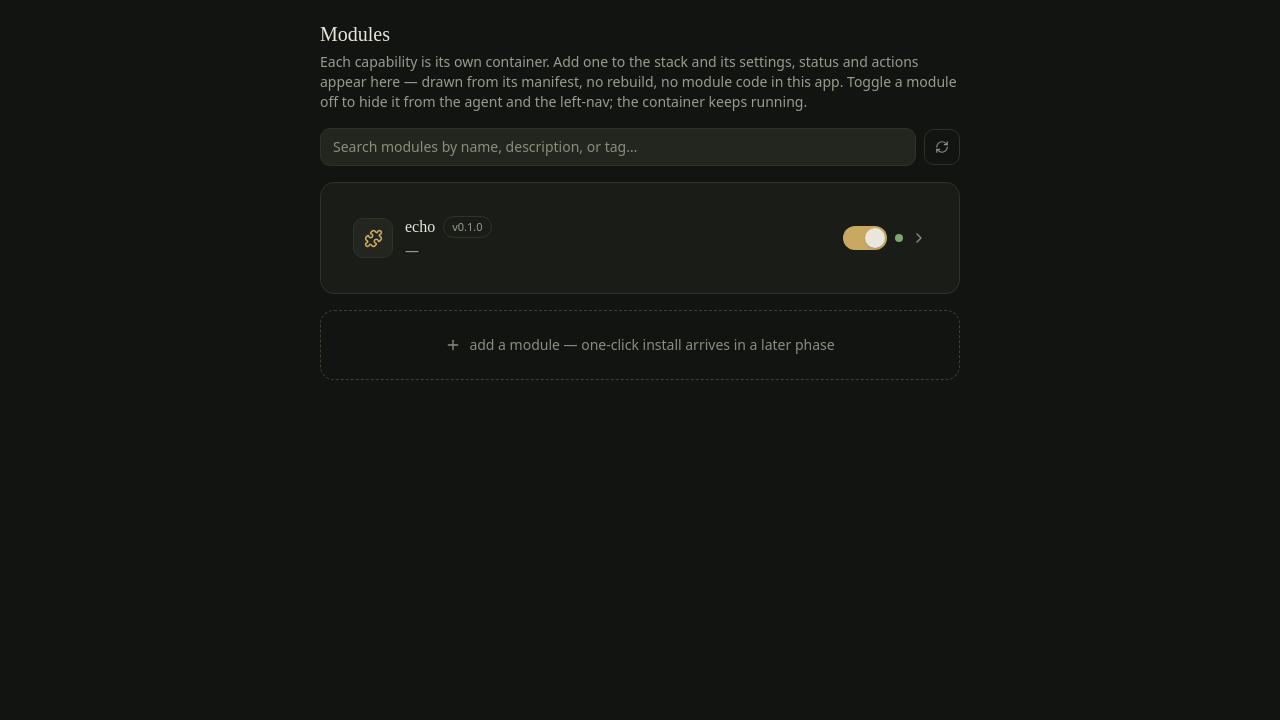
Test case: ModulesScreen removal › shows an informational deferred-teardown notice when the core has no Docker access (#382)
The width and height of the screenshot is (1280, 720).
Step 1. Click the button named "expand" → (919, 238), box [911,230,927,246]
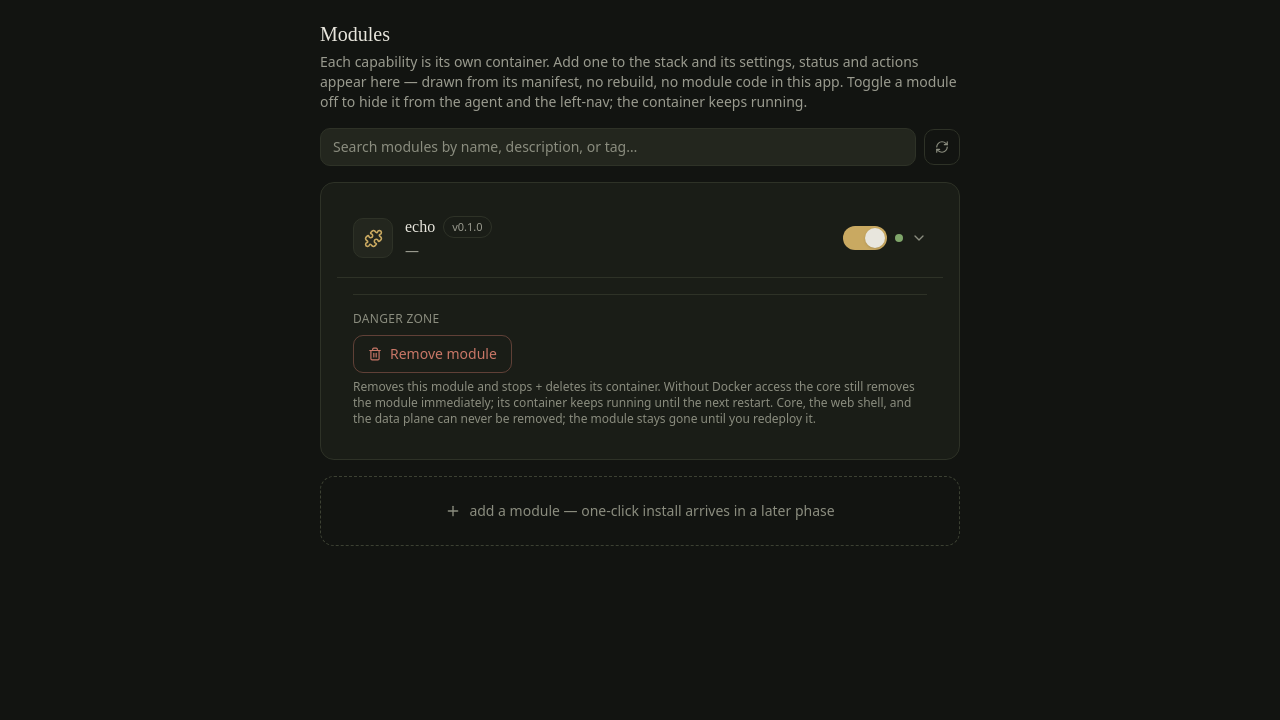
Step 2. Click the button "Remove module" → (432, 354), box [353,335,512,373]
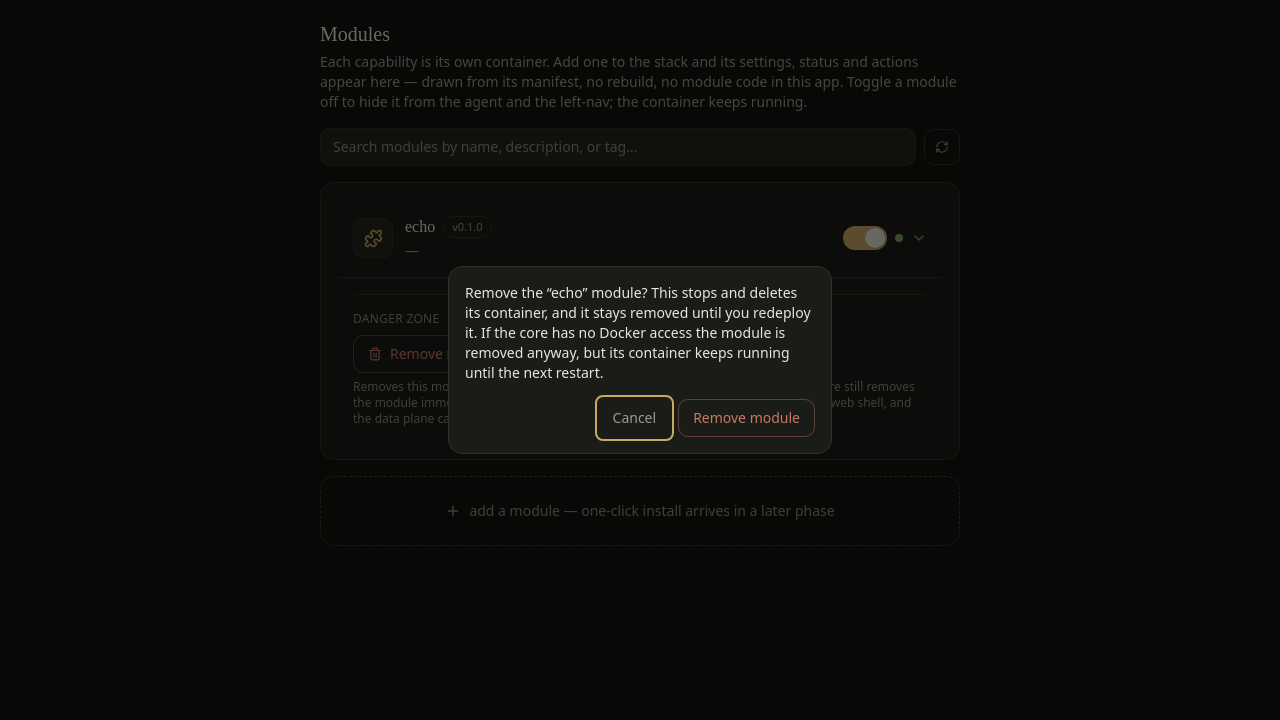
Step 3. Click the button "Remove module" → (747, 418), box [678,399,815,437]
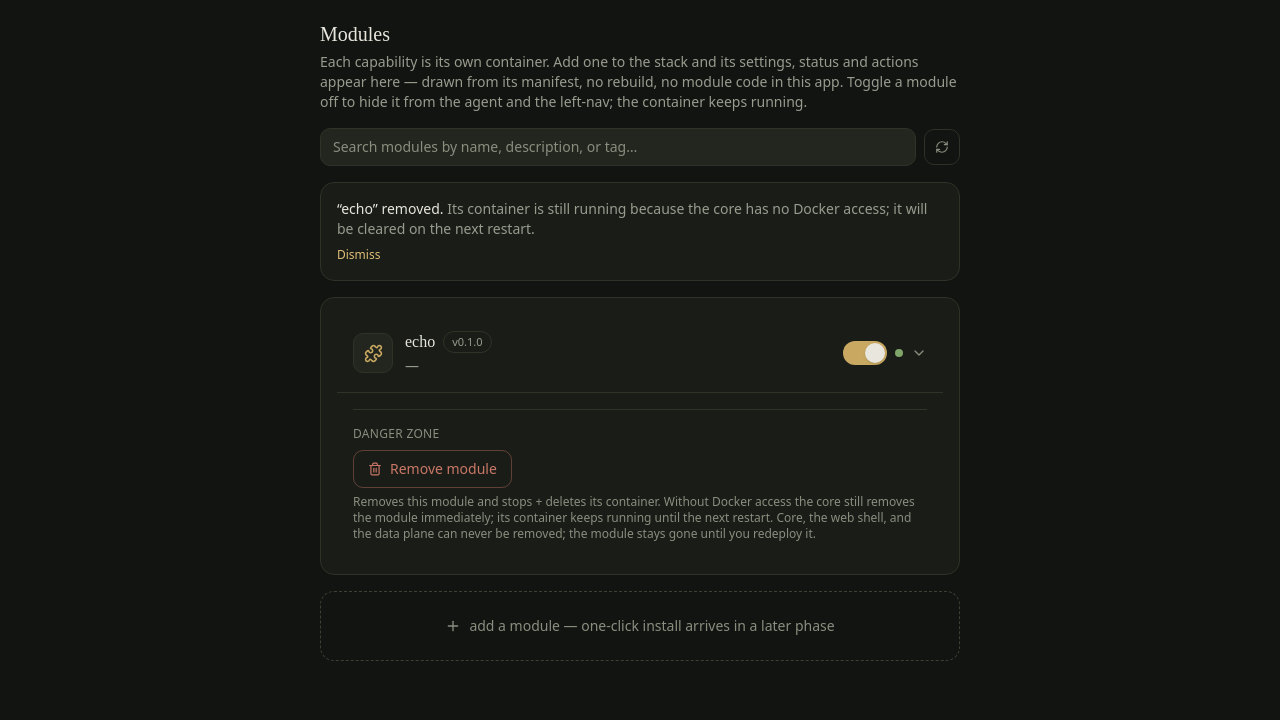
Check: the text "Its container is still running" shows "echo", box [341,199,373,218]
Check: the text "Its container is still running" shows "next restart", box [337,199,928,238]
